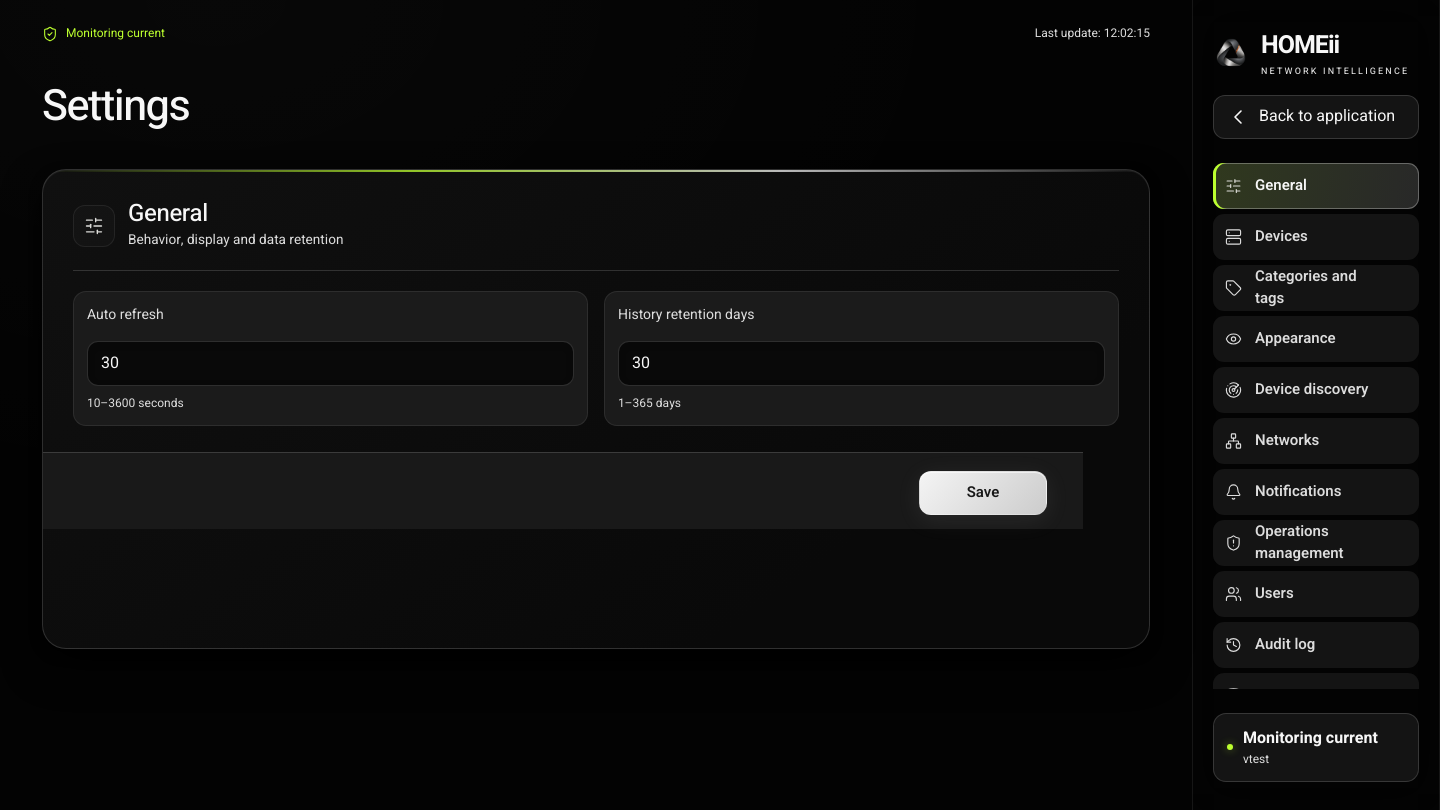
Test: secondary forms and navigation › shows user creation failures inside the dialog and keeps the draft
expect the button "Back to application" is shown: met, box [1213,95,1419,139]
Click the button "Users" at (1316, 594), box [1213,571,1419,617]
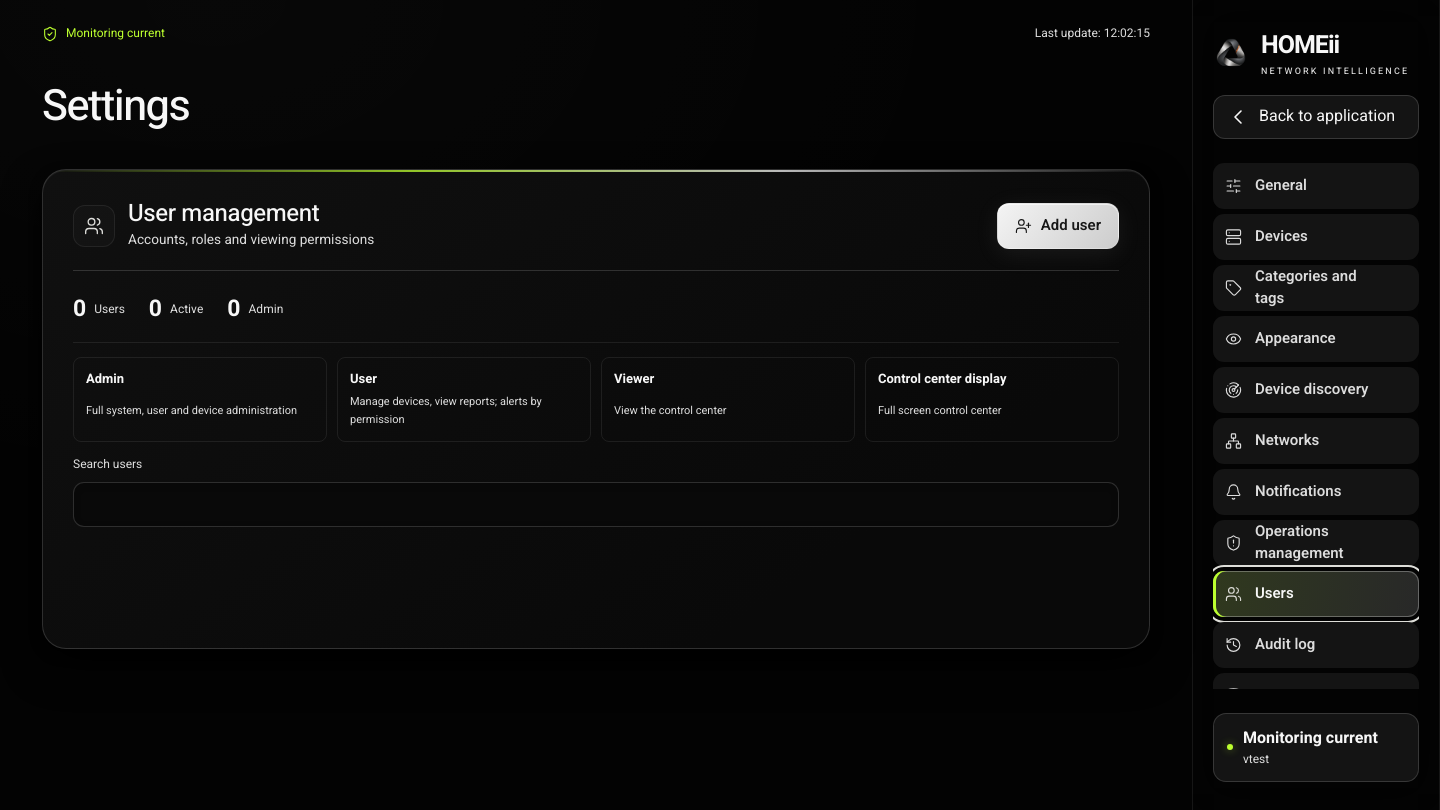
Click the button "Add user" at (1058, 226), box [997,203,1119,249]
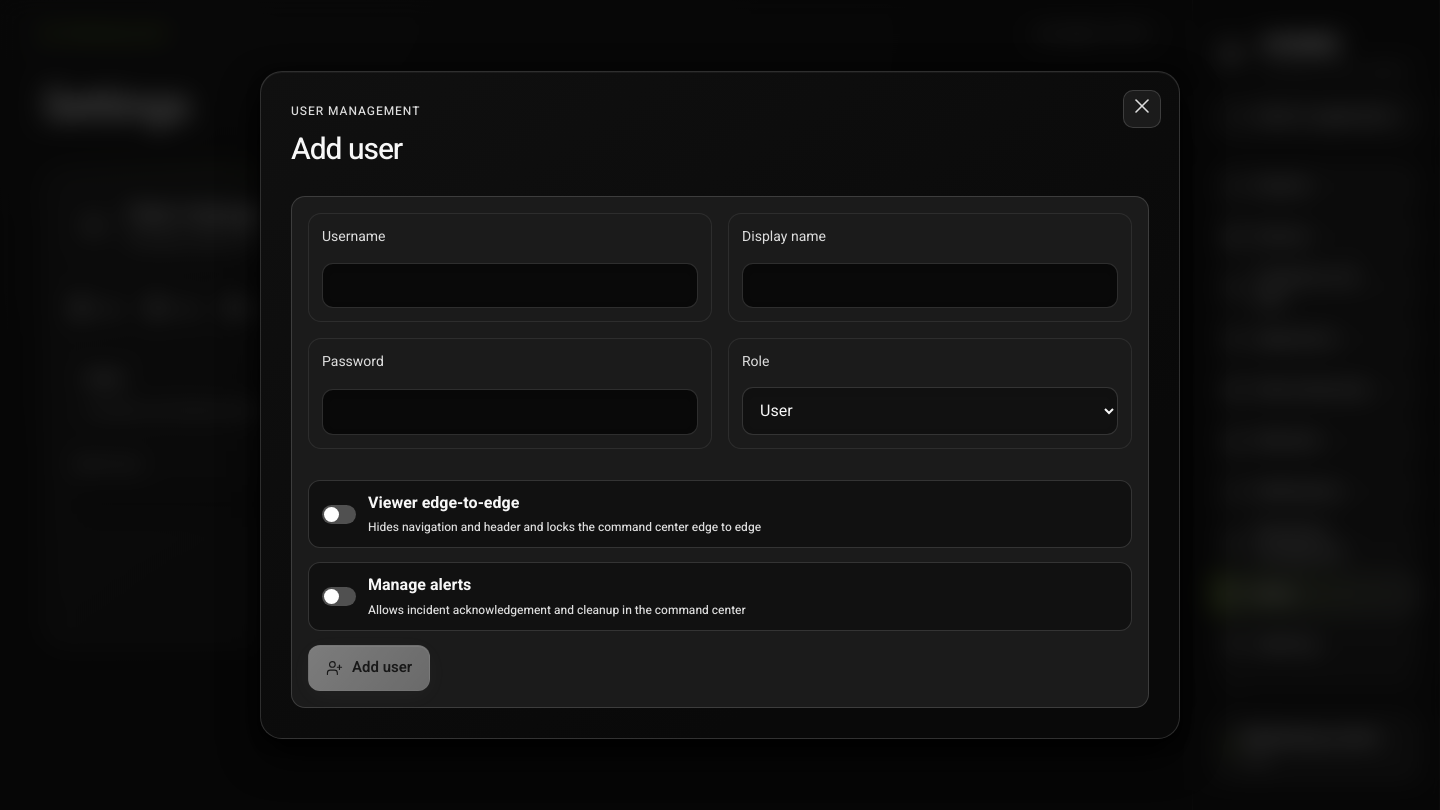
Type "existing" into the field labelled "Username" at (510, 285), box [322,263,698,308]
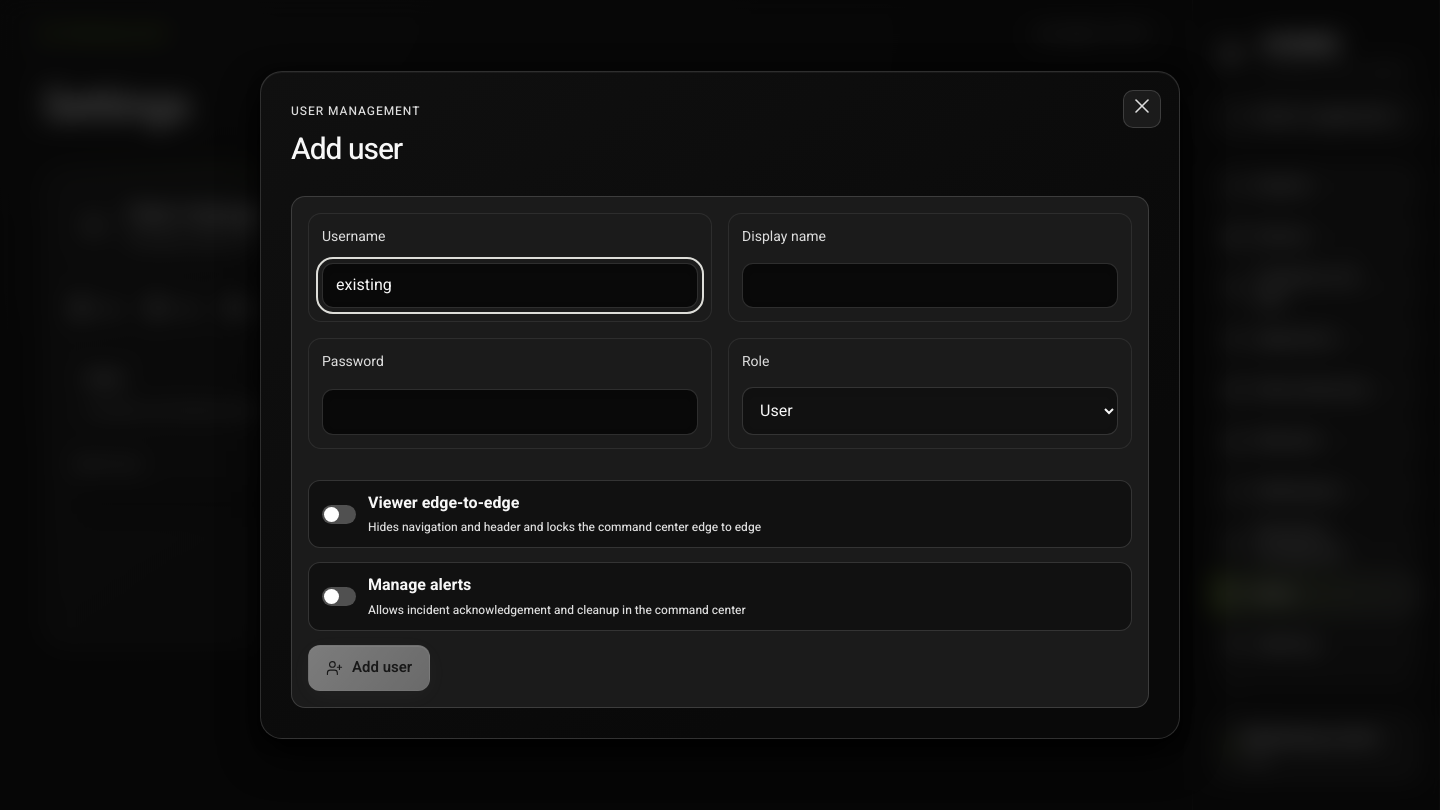
Type "test-password-only" into the password field labelled "Password" at (510, 412), box [322,389,698,435]
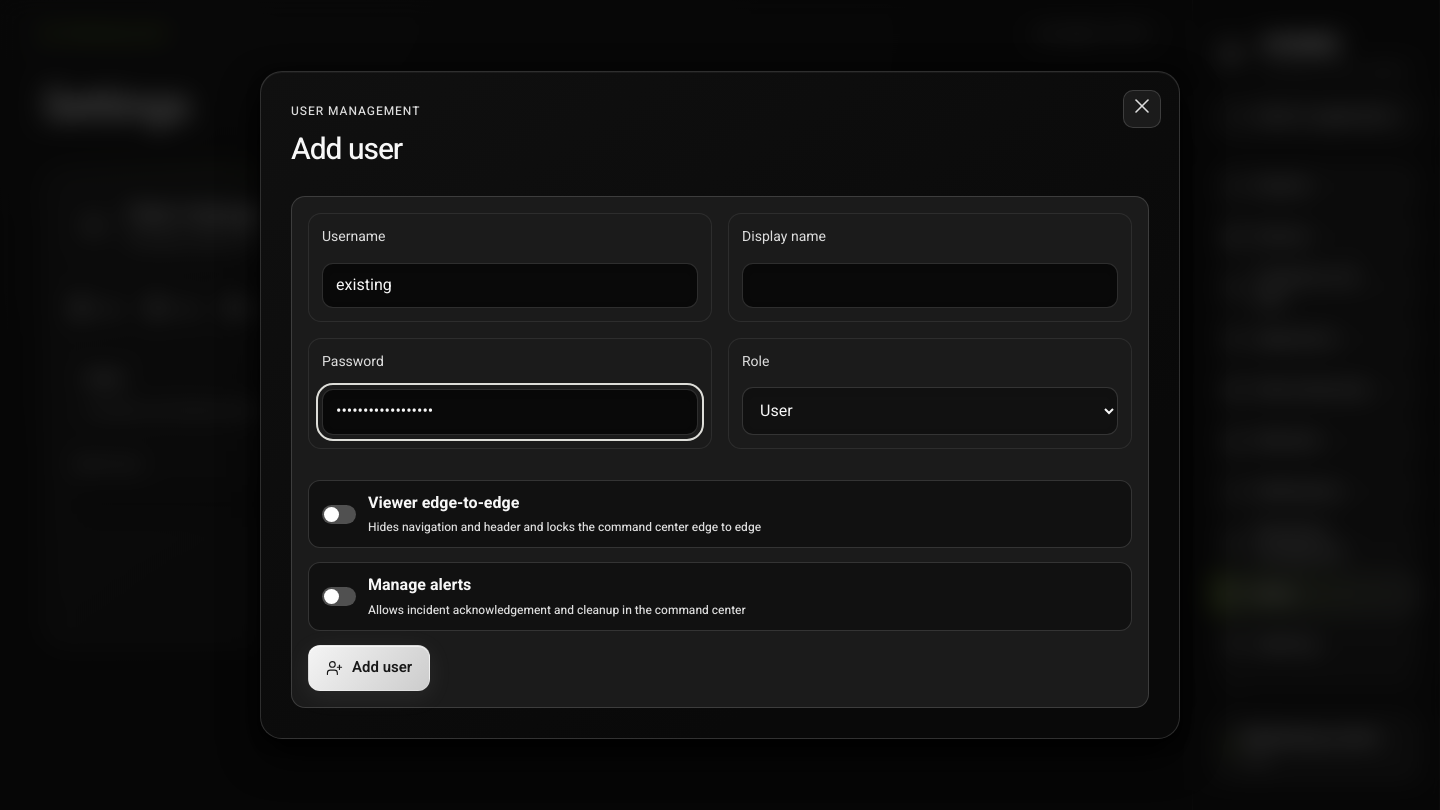
Click the button "Add user" at (369, 668), box [308,645,430,691]
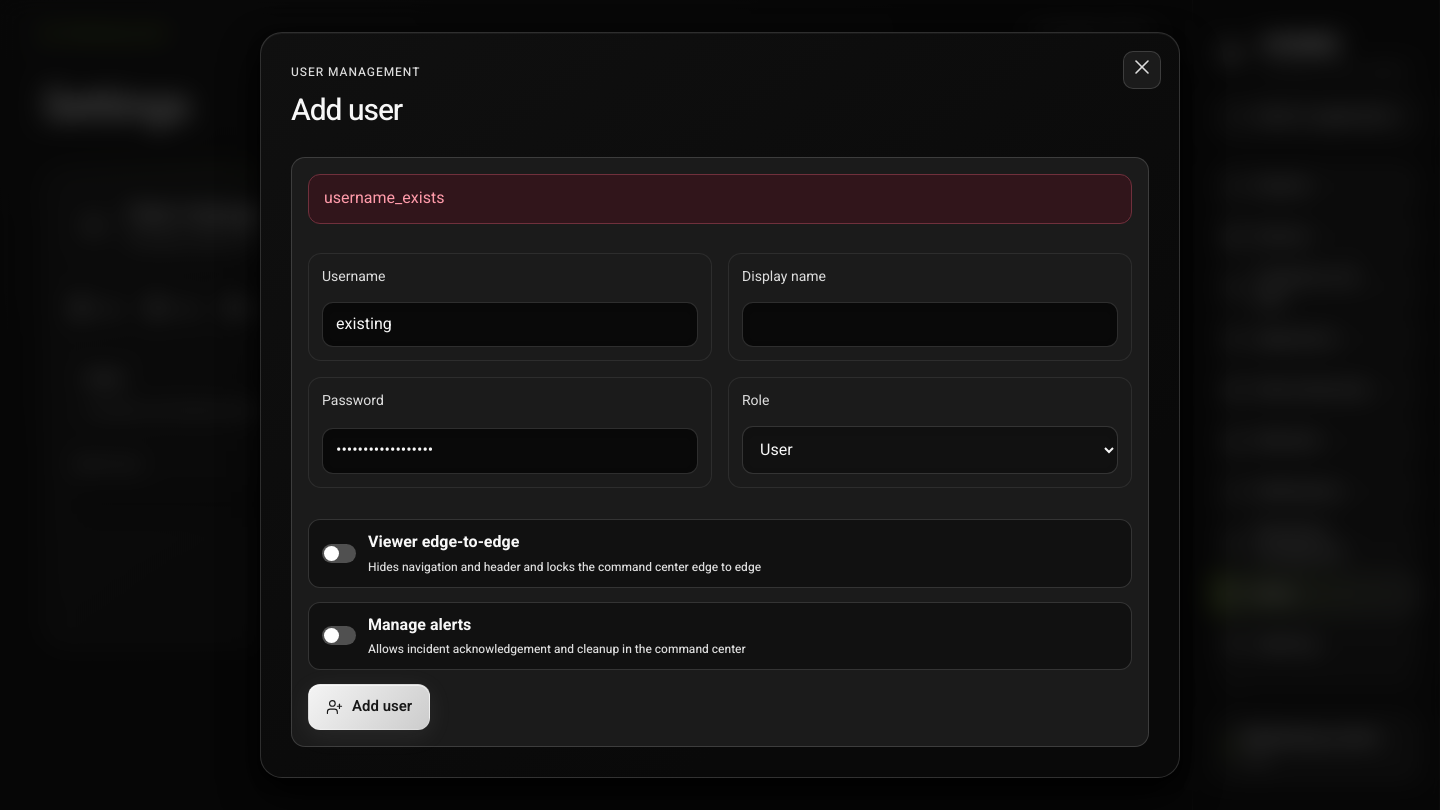
expect the message "username_exists" is shown: met, box [308,174,1132,224]
